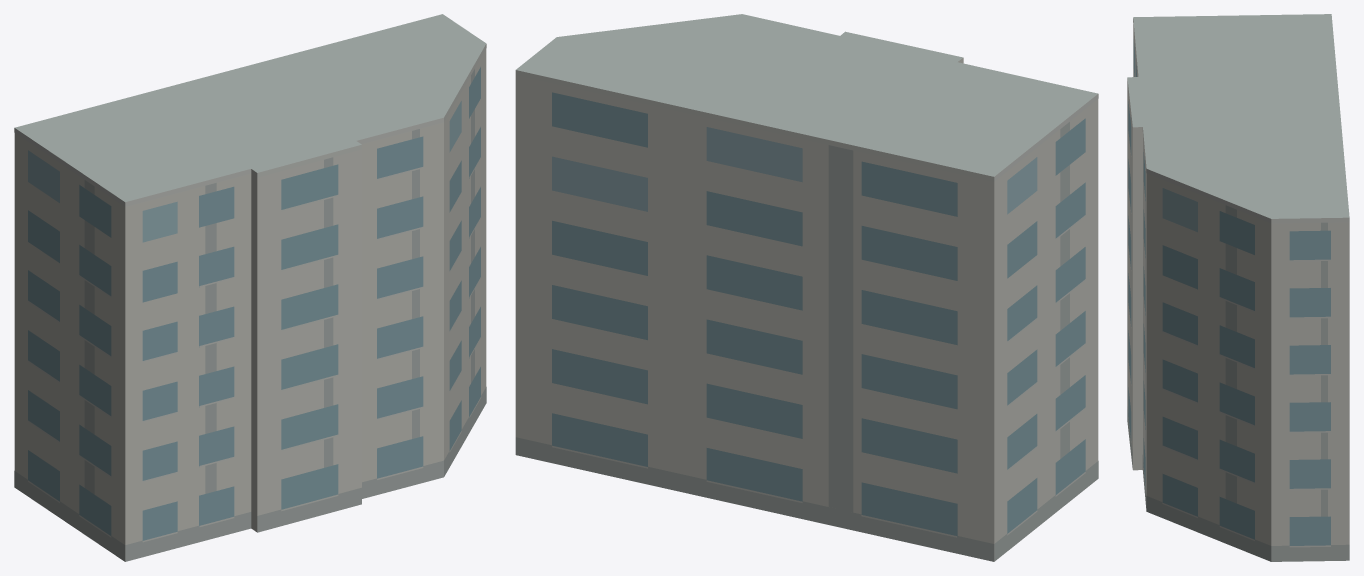
The model's file is survey-upis-32629987.glb.
3 renders of one model, left to right at view 1: azimuth 30°, elevation 25°; view 2: azimuth 150°, elevation 25°; view 3: azimuth 270°, elevation 25°, orthographic. The views are drawn at different scales.
Visible parts, largest first — view 1: survey-upis-32629987.tmp; view 2: survey-upis-32629987.tmp; view 3: survey-upis-32629987.tmp.
Boxes of the visible parts, box(x1,y1,x2,y2) form: survey-upis-32629987.tmp: box(14, 14, 486, 561); survey-upis-32629987.tmp: box(515, 14, 1098, 561); survey-upis-32629987.tmp: box(1127, 14, 1349, 561).
Size of the model in its own units: 23.46 by 18.3 by 10.76.
